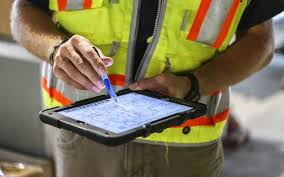High Viz: (60, 1, 222, 140)
